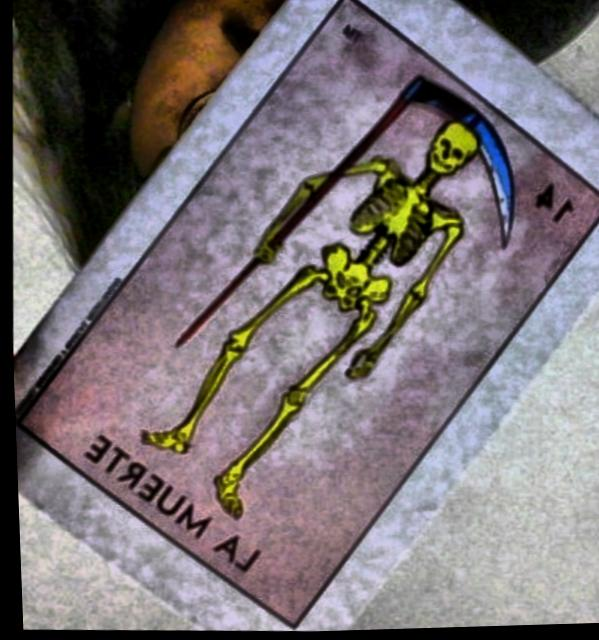La Muerte: (15, 0, 599, 629)
